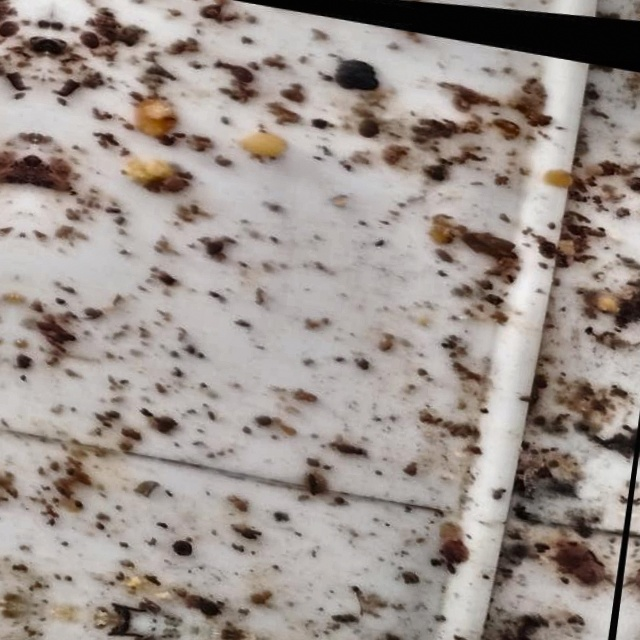varroa: (222, 59, 259, 85), (197, 595, 227, 619), (356, 114, 384, 139), (75, 27, 101, 51), (167, 535, 195, 557), (46, 39, 68, 59)
